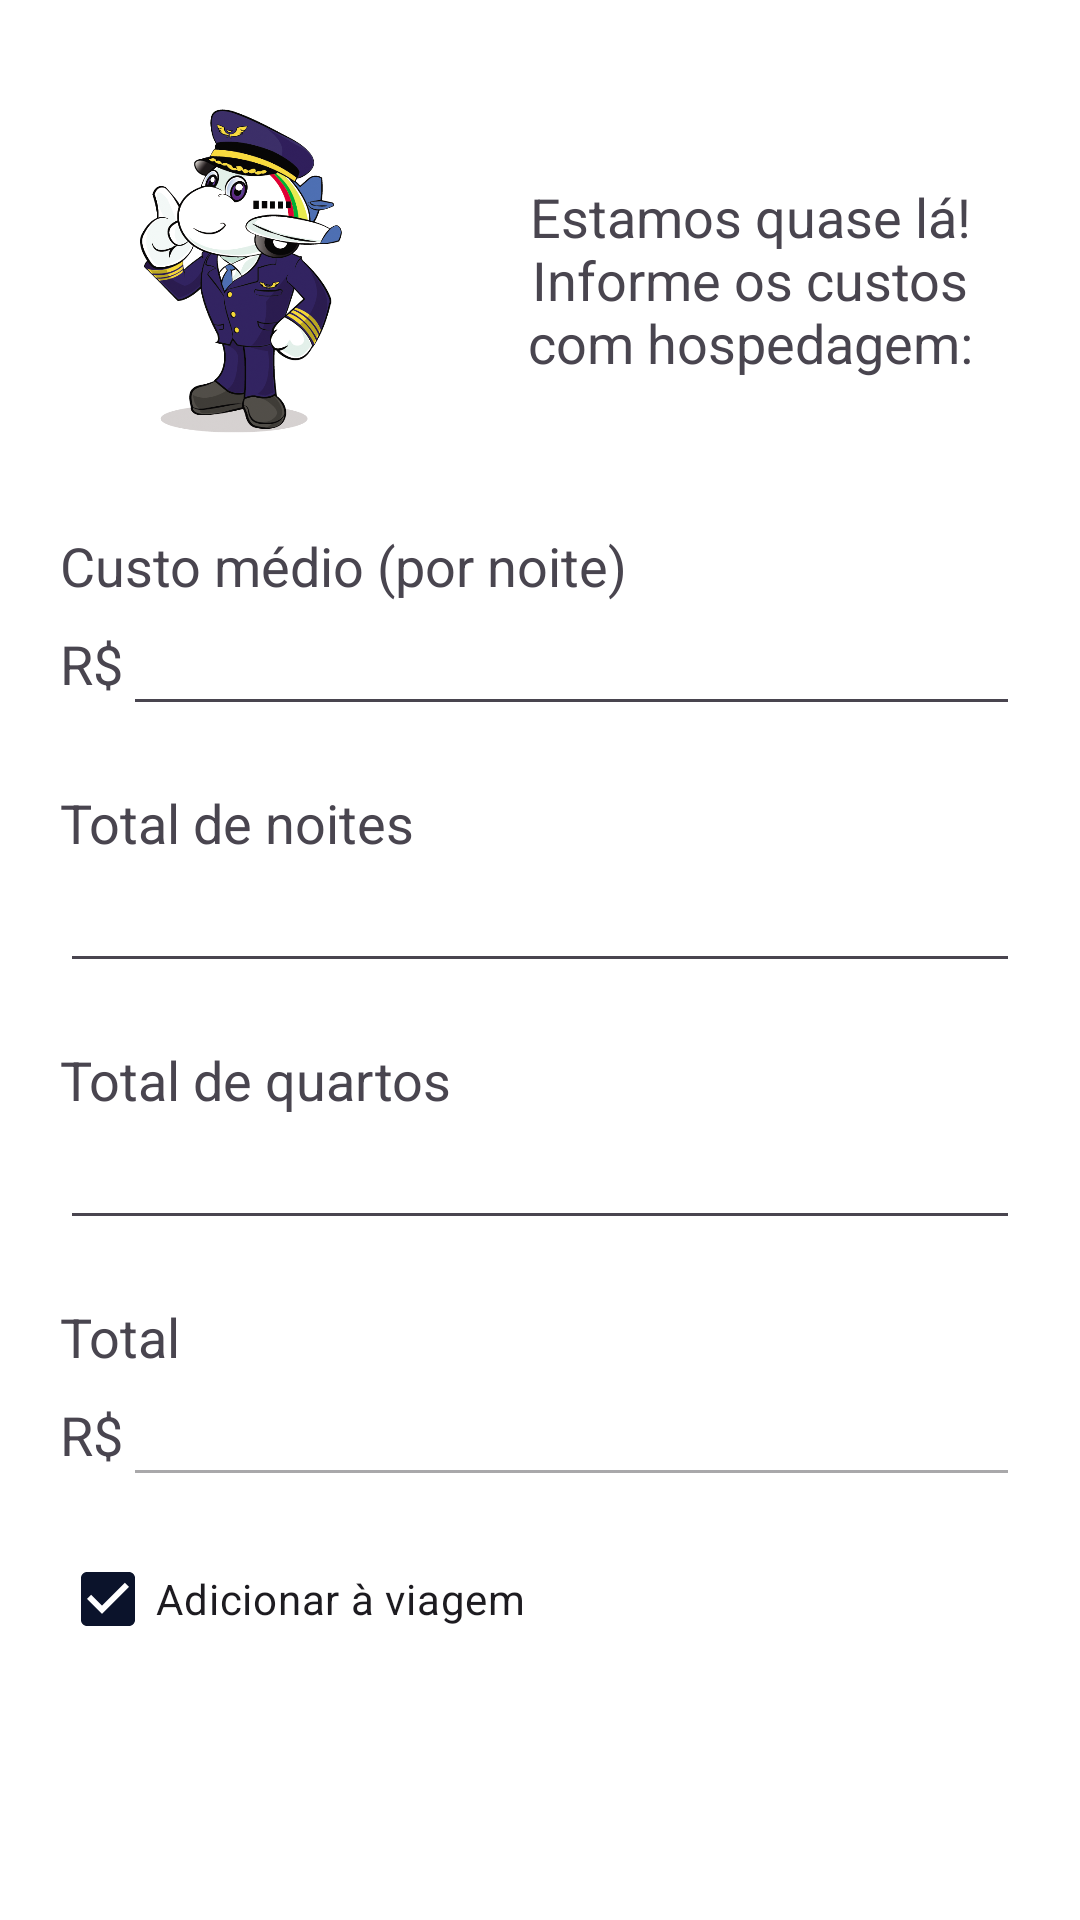

Named icons in this screenshot (1080w x 1920h) and their centers, point (x, y):
aviao: point (241, 270)
